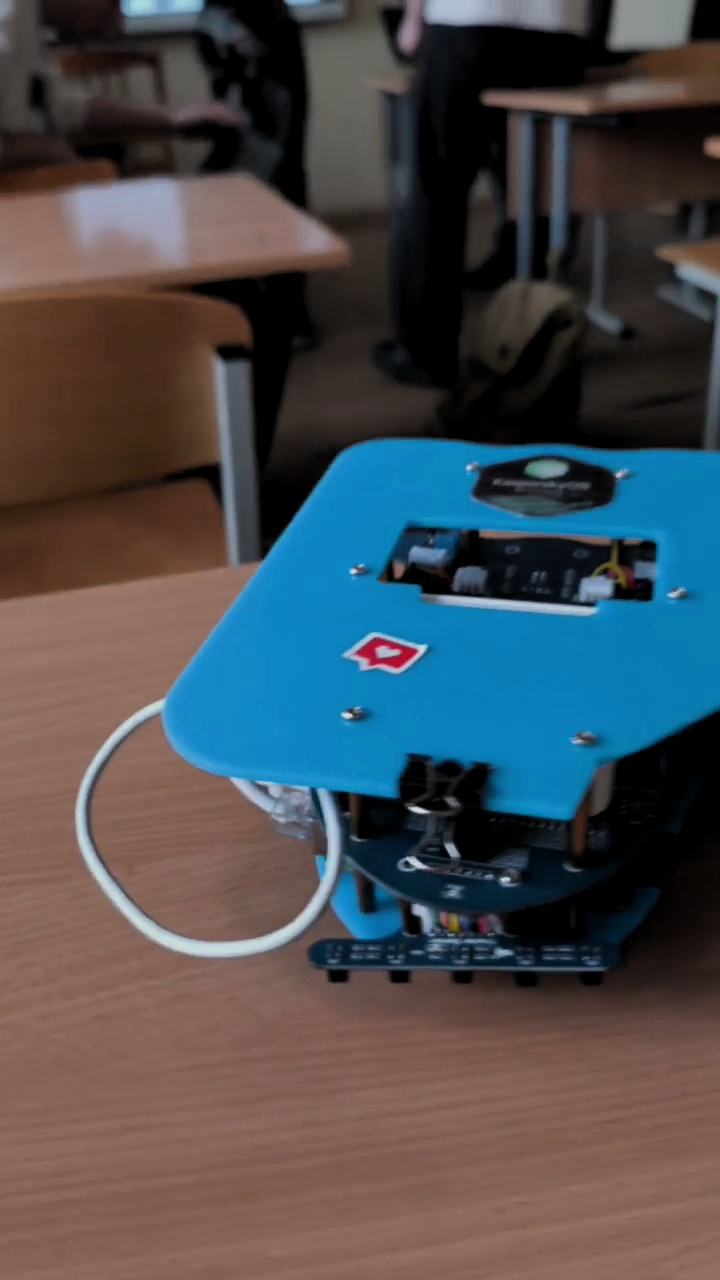robot: (71, 434, 720, 989)
